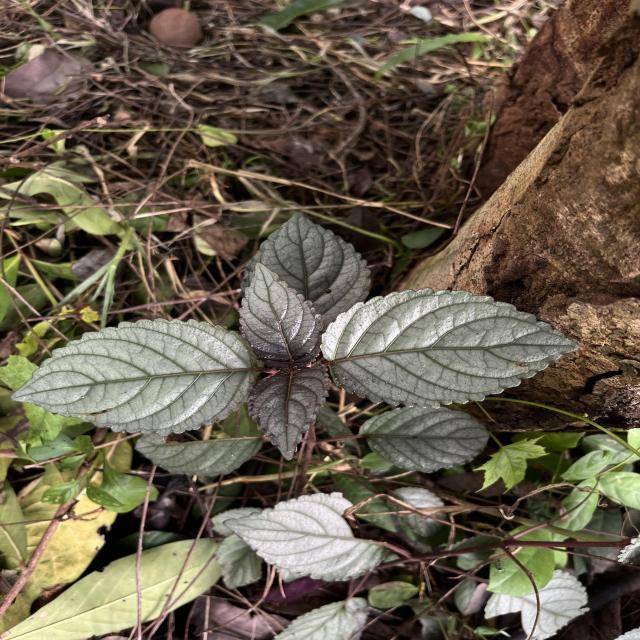Hemigraphis colorata: (318, 284, 582, 411), (8, 315, 260, 440), (237, 207, 375, 322), (236, 258, 326, 370), (354, 404, 492, 476), (245, 368, 333, 462)
